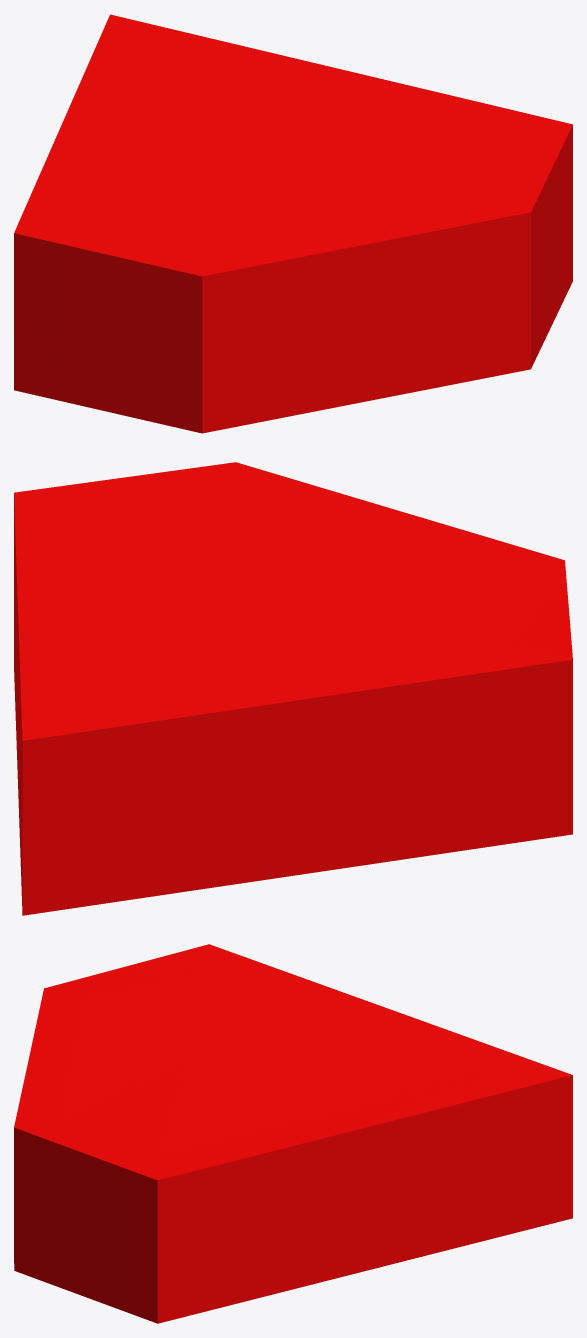
The model's file is diamond.dae.
3 views of the same model, one above another, from view 1: azimuth 30°, elevation 25°; view 2: azimuth 150°, elevation 25°; view 3: azimuth 270°, elevation 25° (orthographic). The views are drawn at different scales.
Visible parts, largest first — view 1: hex5; view 2: hex5; view 3: hex5.
Part boxes in pixels (x1,y1,x2,y2): hex5: (14,14,572,433); hex5: (14,462,572,915); hex5: (14,944,572,1323).
Size of the model in its own units: 0.07 by 0.07 by 0.02.
